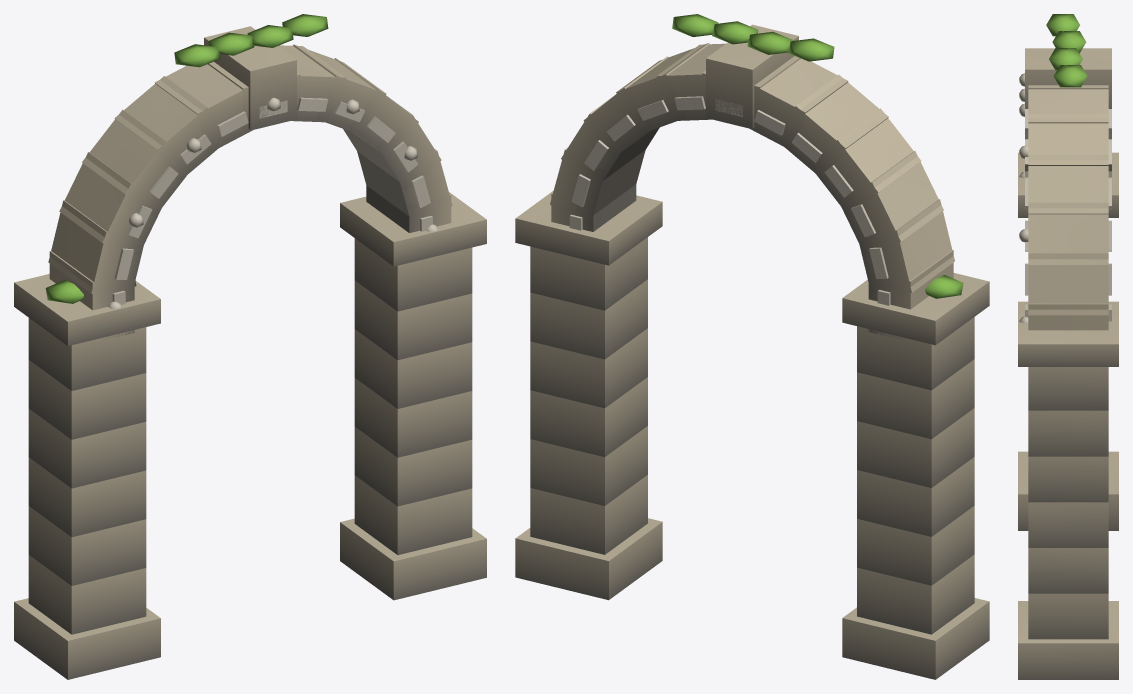
The model's file is ruin_arch.glb.
The picture shows the model from 3 angles, left to right: view 1: azimuth 30°, elevation 25°; view 2: azimuth 150°, elevation 25°; view 3: azimuth 270°, elevation 25°; orthographic projection. The views are drawn at different scales.
Visible parts, largest first — view 1: Arch; view 2: Arch; view 3: Arch.
Boxes of the visible parts, left/top/right/bottom form: Arch: left=14, top=14, right=486, bottom=679; Arch: left=515, top=14, right=989, bottom=679; Arch: left=1018, top=14, right=1118, bottom=679.
Bounding box in the file's own units: 4.5 × 5.92 × 1.
